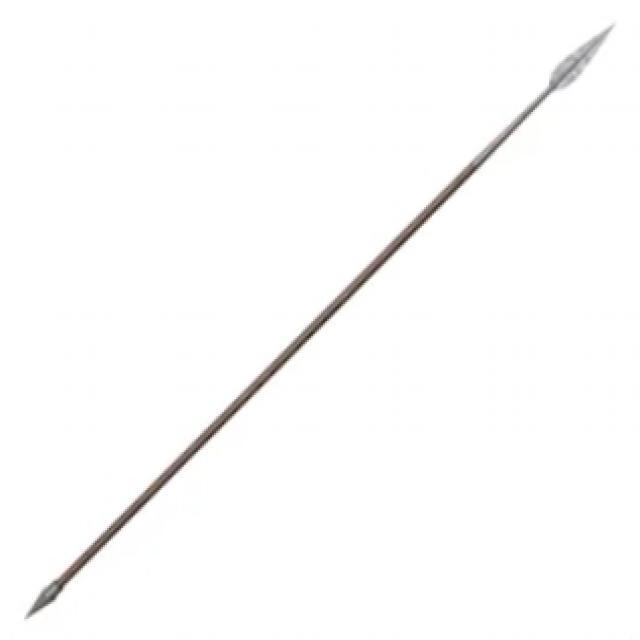spear: (13, 11, 624, 620)
